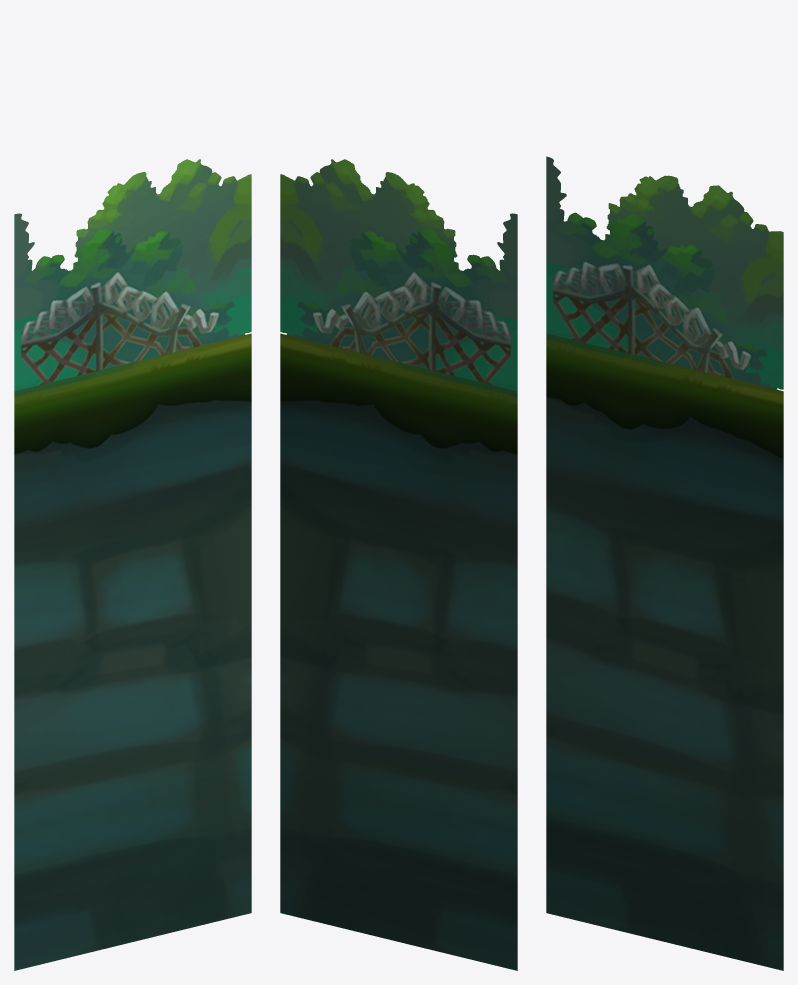
Rendered from 102104@skin.FBX.
3 views of the same model, side by side, from view 1: azimuth 30°, elevation 25°; view 2: azimuth 150°, elevation 25°; view 3: azimuth 330°, elevation 25° (orthographic).
Visible parts, largest first — view 1: body; view 2: body; view 3: body.
Boxes of the visible parts, x1,y1,x2,y2 form: body: (14, 159, 251, 970); body: (280, 159, 517, 970); body: (546, 156, 783, 970).
Size of the model in its own units: 30 by 109 by 1.53e-05.
